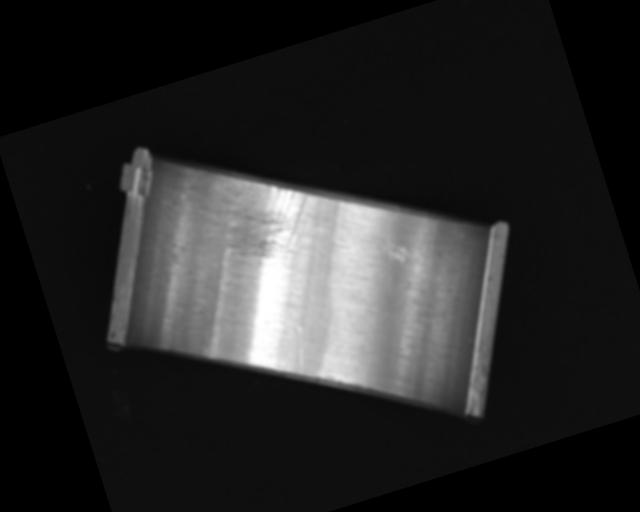bruise: (375, 236, 412, 269)
nick: (288, 325, 313, 370)
scratch: (194, 140, 325, 279)
